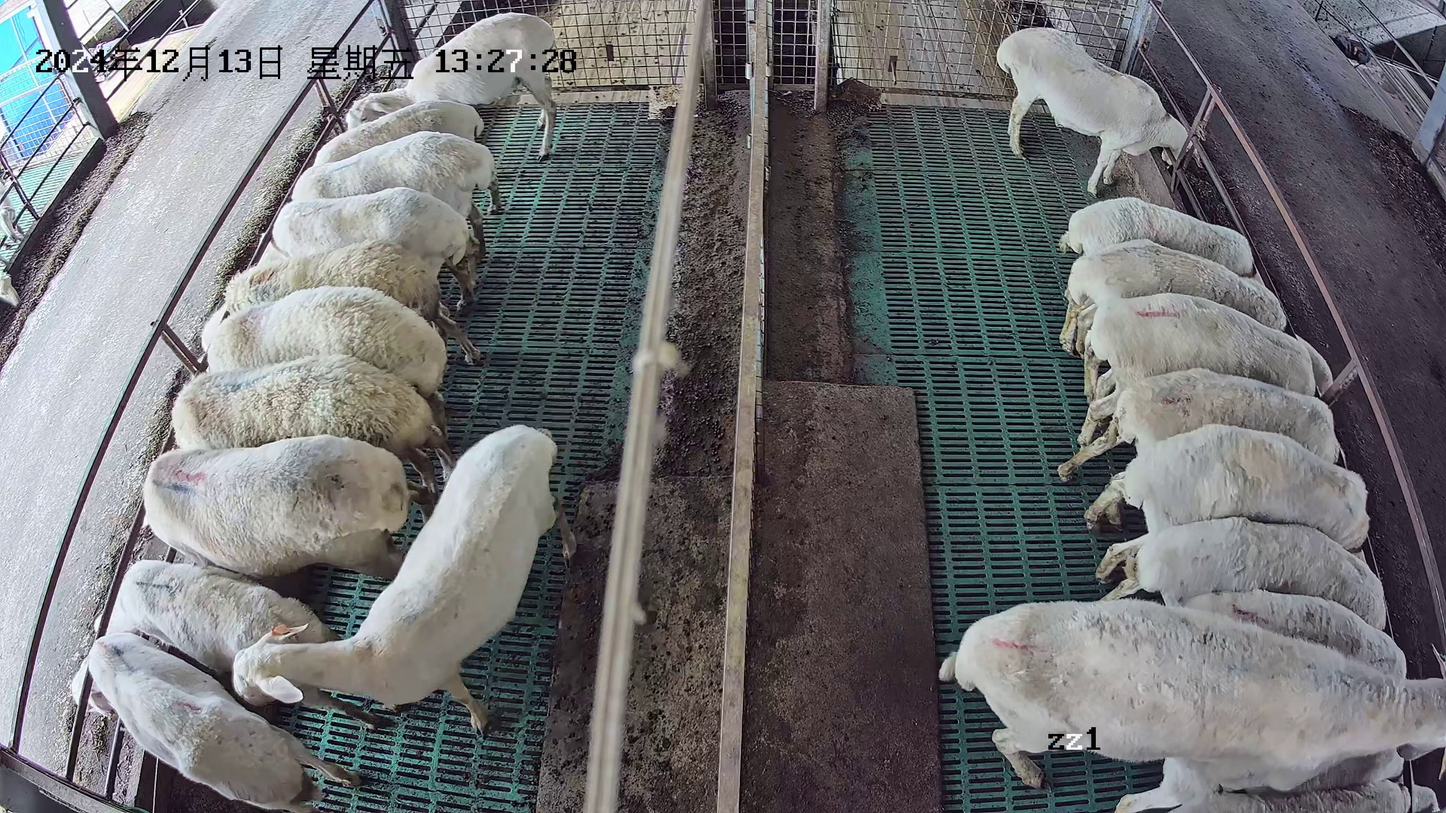Smounting: (937, 596, 1446, 813)
mounted: (1111, 750, 1408, 813)
